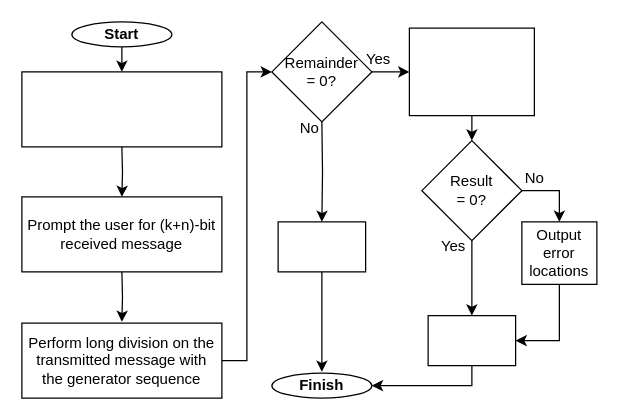
This 619x420 diagram has some shape labels left out. The shapes that lost their labels are listed below. From the top down, each one's box as (x1, y1, x2, y2) in pixels, then its label:
(408, 27, 534, 116): XOR the transmitted and the received message
(21, 71, 222, 147): Get the transmitted and generator sequences from the 'Generator' function
(277, 221, 366, 272): Reject the dataword
(427, 314, 516, 366): Accept the dataword
